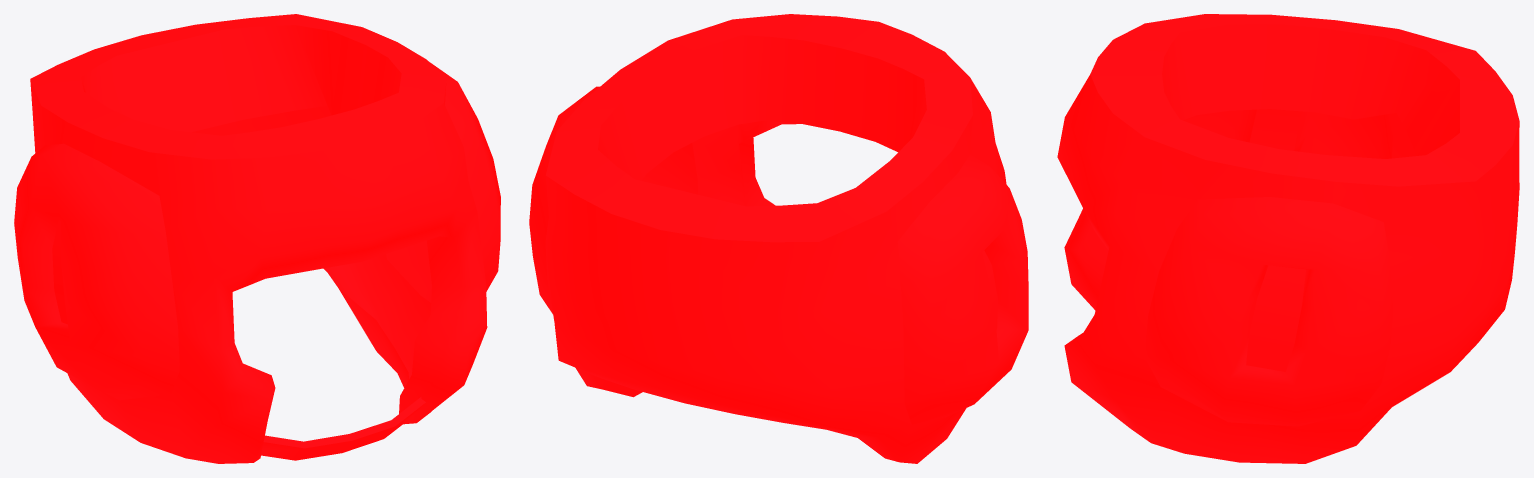
The model's file is Helment.fbx.
3 renders of one model, left to right at view 1: azimuth 30°, elevation 25°; view 2: azimuth 150°, elevation 25°; view 3: azimuth 270°, elevation 25°, orthographic. The views are drawn at different scales.
Visible parts, largest first — view 1: Helment; view 2: Helment; view 3: Helment.
Boxes of the visible parts, left/top/right/bottom form: Helment: left=14, top=14, right=500, bottom=463; Helment: left=529, top=14, right=1028, bottom=463; Helment: left=1057, top=14, right=1519, bottom=463.
Size of the model in its own units: 130 by 88.96 by 116.
